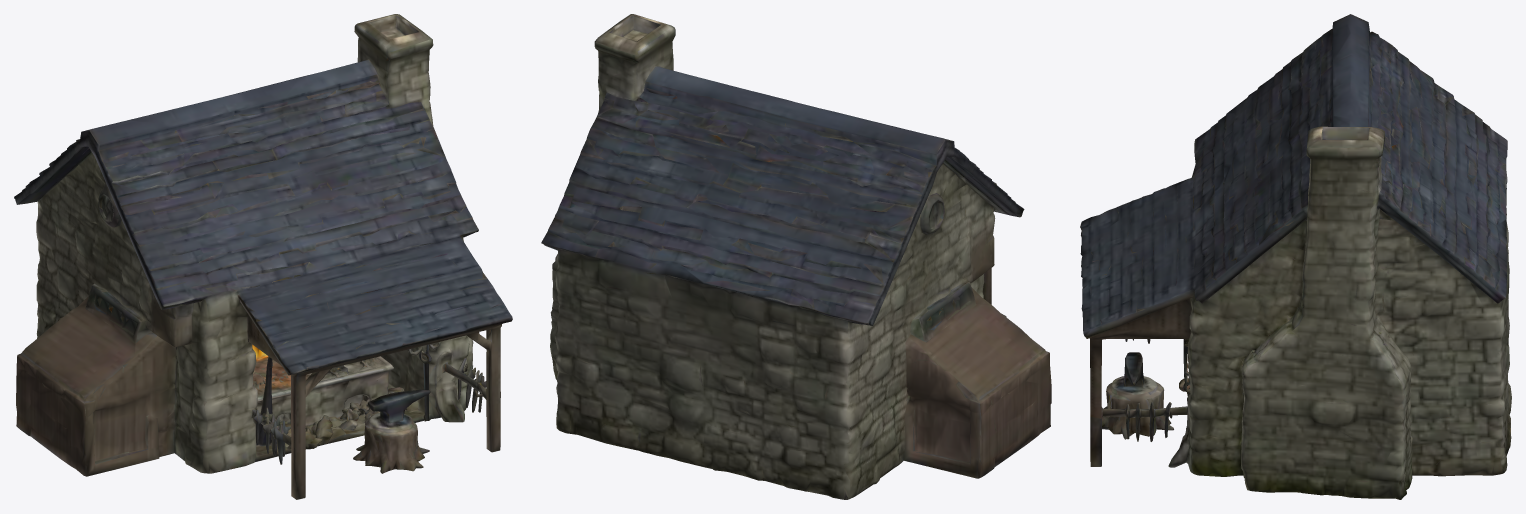
Rendered from forge.glb.
3 renders of one model, left to right at view 1: azimuth 30°, elevation 25°; view 2: azimuth 150°, elevation 25°; view 3: azimuth 270°, elevation 25°, orthographic. The views are drawn at different scales.
Parts seen in each view (by area): view 1: Mesh_0; view 2: Mesh_0; view 3: Mesh_0.
Part boxes in pixels (bbox=[...]): Mesh_0: bbox=[14, 14, 512, 499]; Mesh_0: bbox=[541, 14, 1051, 499]; Mesh_0: bbox=[1080, 14, 1511, 499].
Size of the model in its own units: 1.9 by 1.46 by 1.67.
Materials: 1 (1 with a texture image).
